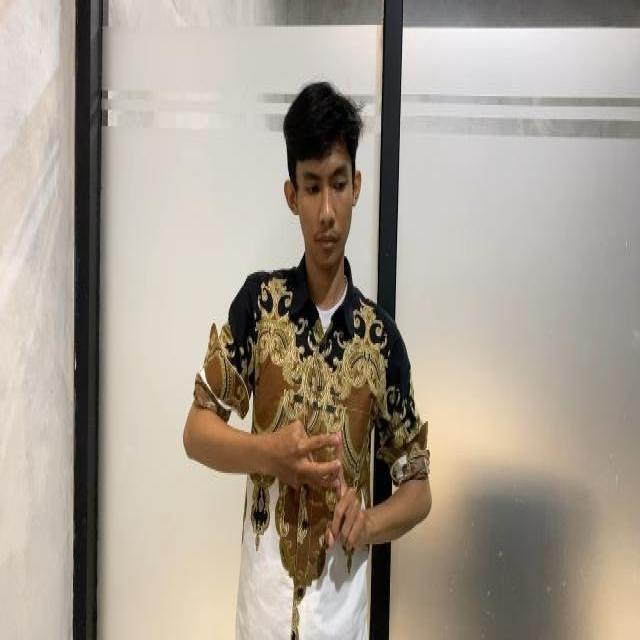B: (288, 406, 368, 536)
